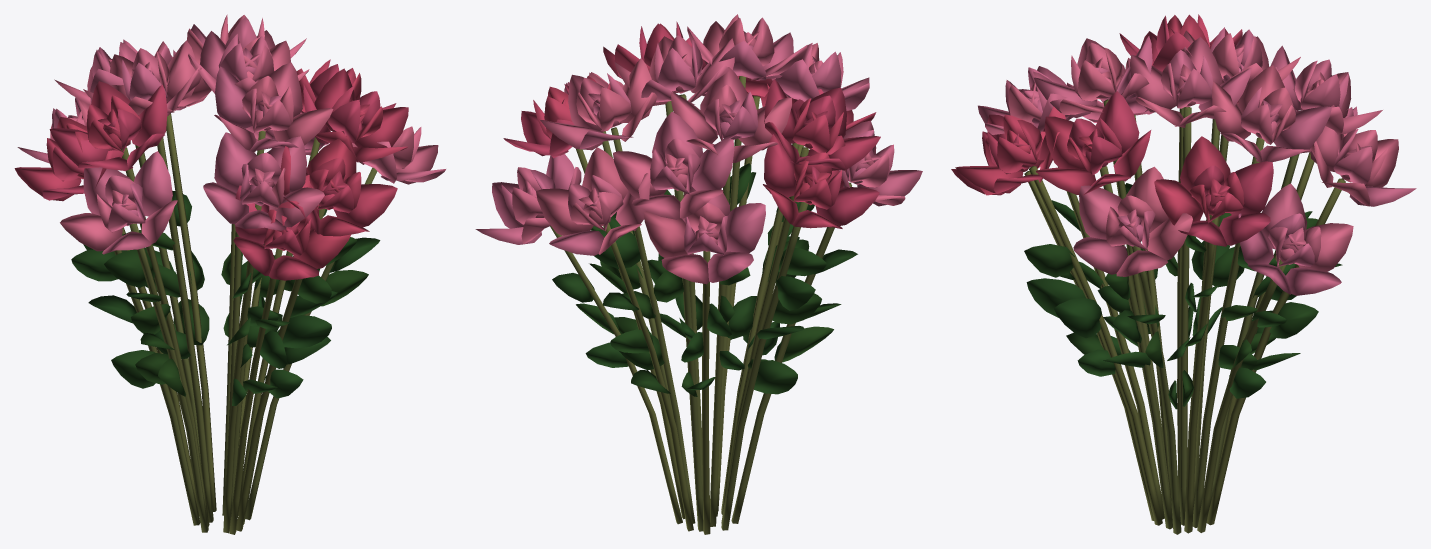
File: bucket_roses_pink.glb
3 views of the same model, side by side, from view 1: azimuth 30°, elevation 25°; view 2: azimuth 150°, elevation 25°; view 3: azimuth 270°, elevation 25° (orthographic).
Visible parts, largest first — view 1: Sammel Pflanze, Sammel Putz; view 2: Sammel Pflanze, Sammel Putz; view 3: Sammel Pflanze, Sammel Putz.
Part boxes in pixels (x1=…): Sammel Pflanze: x1=14, y1=14, x2=445, y2=405; Sammel Putz: x1=114, y1=113, x2=377, y2=534; Sammel Pflanze: x1=475, y1=14, x2=922, y2=396; Sammel Putz: x1=550, y1=76, x2=851, y2=534; Sammel Pflanze: x1=951, y1=14, x2=1416, y2=409; Sammel Putz: x1=1024, y1=99, x2=1345, y2=534.
Bounding box in the file's own units: 0.4543 × 0.5503 × 0.4834.
